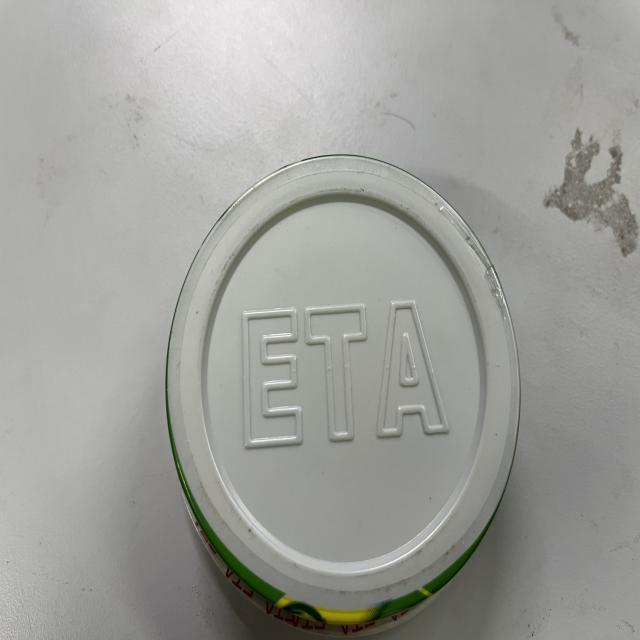L2: (156, 148, 533, 640)
